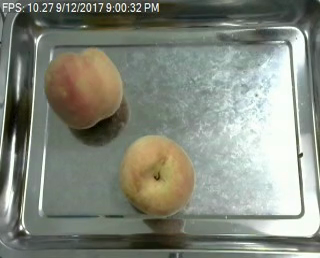Peach: (45, 47, 124, 130), (119, 134, 194, 216)
